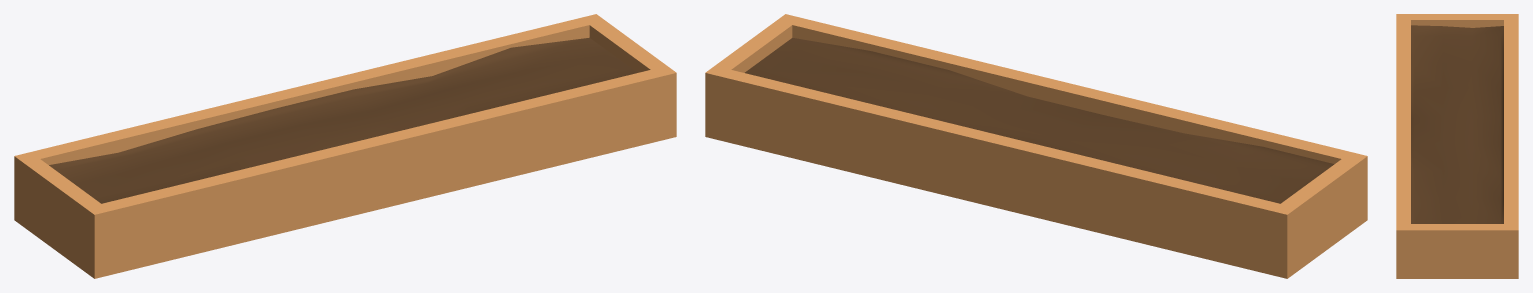
Rendered from prop_planter_box.fbx.
The picture shows the model from 3 angles, left to right: view 1: azimuth 30°, elevation 25°; view 2: azimuth 150°, elevation 25°; view 3: azimuth 270°, elevation 25°; orthographic projection. The views are drawn at different scales.
Parts seen in each view (by area): view 1: planter_box; view 2: planter_box; view 3: planter_box.
Part boxes in pixels (bbox=[...]): planter_box: bbox=[14, 14, 676, 278]; planter_box: bbox=[705, 14, 1367, 278]; planter_box: bbox=[1396, 14, 1518, 278].
Size of the model in its own units: 28.9 by 3.04 by 6.91.
